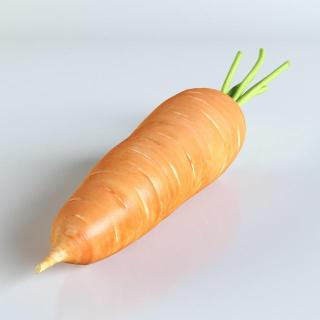carrot: (28, 86, 250, 274)
